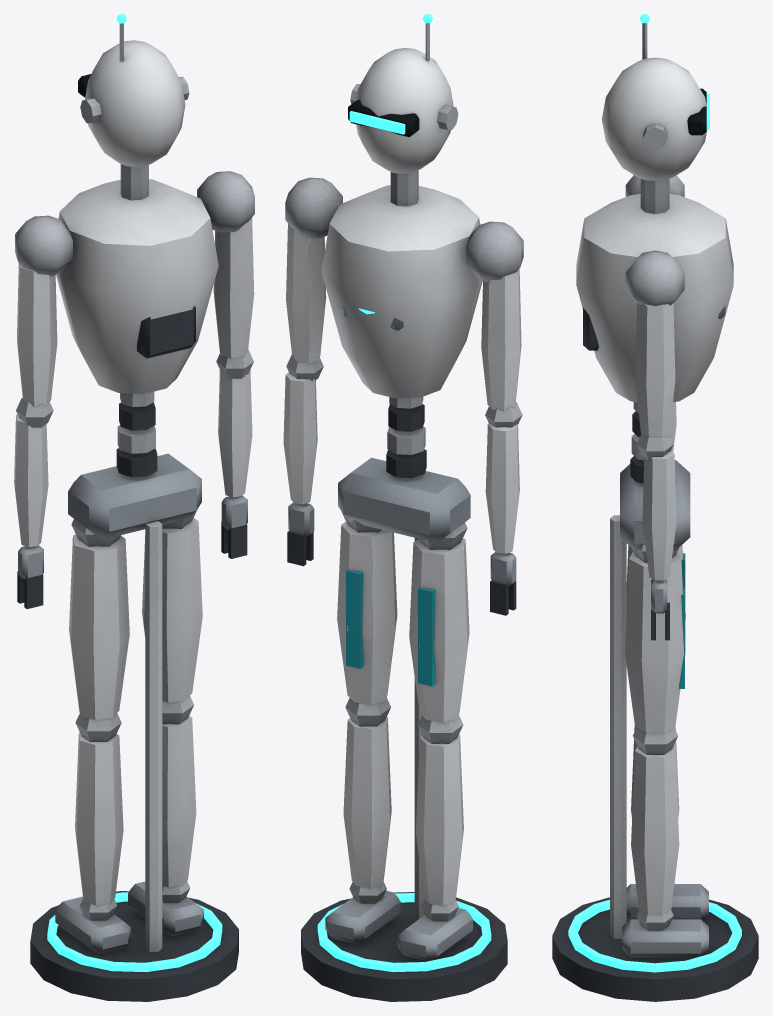
Rendered from maniqui_expositor.fbx.
The picture shows the model from 3 angles, left to right: view 1: azimuth 30°, elevation 25°; view 2: azimuth 150°, elevation 25°; view 3: azimuth 270°, elevation 25°; orthographic projection.
Parts seen in each view (by area): view 1: maniqui_expositor, maniqui_expositor_neon; view 2: maniqui_expositor, maniqui_expositor_neon; view 3: maniqui_expositor, maniqui_expositor_neon.
Boxes of the visible parts, x1,y1,x2,y2 form: maniqui_expositor: (14,23,254,1001); maniqui_expositor_neon: (47,14,222,972); maniqui_expositor: (283,23,523,1001); maniqui_expositor_neon: (317,14,491,972); maniqui_expositor: (552,23,758,1001); maniqui_expositor_neon: (568,14,741,972).
Bounding box in the file's own units: 1.29 × 5 × 1.
2 materials, 2 textured.
